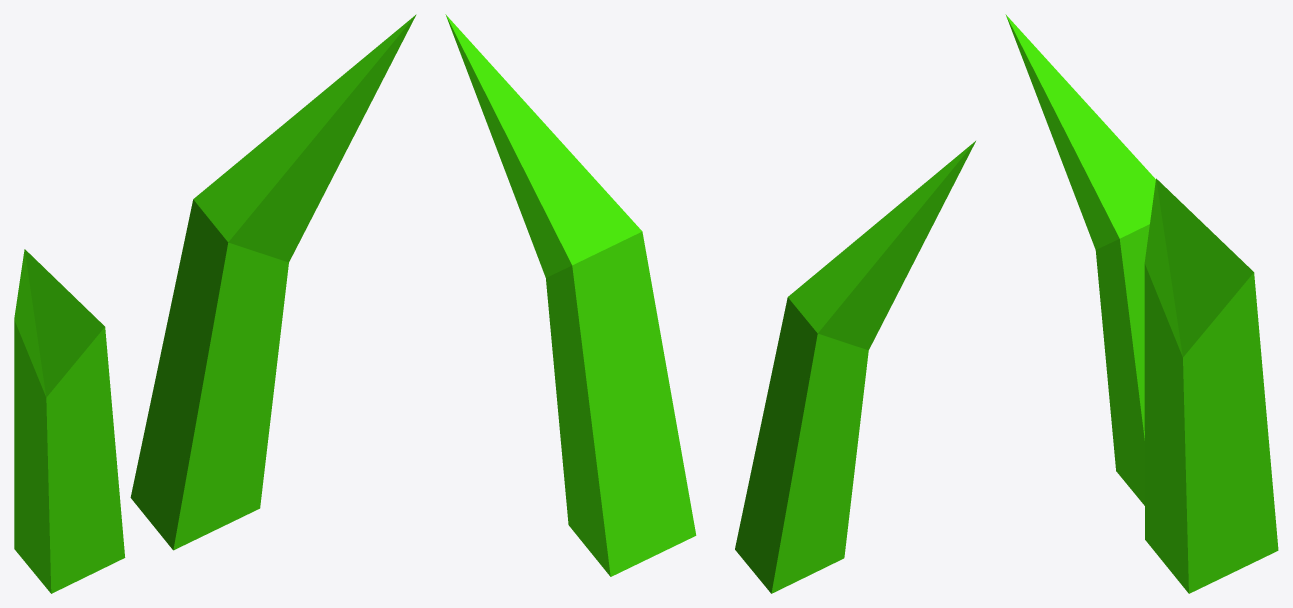
Rendered from LiveGrass4.fbx.
3 renders of one model, left to right at view 1: azimuth 30°, elevation 25°; view 2: azimuth 150°, elevation 25°; view 3: azimuth 270°, elevation 25°, orthographic. The views are drawn at different scales.
Parts seen in each view (by area): view 1: Circle.019; view 2: Circle.019; view 3: Circle.019.
Boxes of the visible parts, box(x1,y1,x2,y2) form: Circle.019: box(14, 14, 416, 593); Circle.019: box(445, 14, 975, 593); Circle.019: box(1005, 14, 1278, 593).
Bounding box in the file's own units: 109 × 106 × 53.73.
